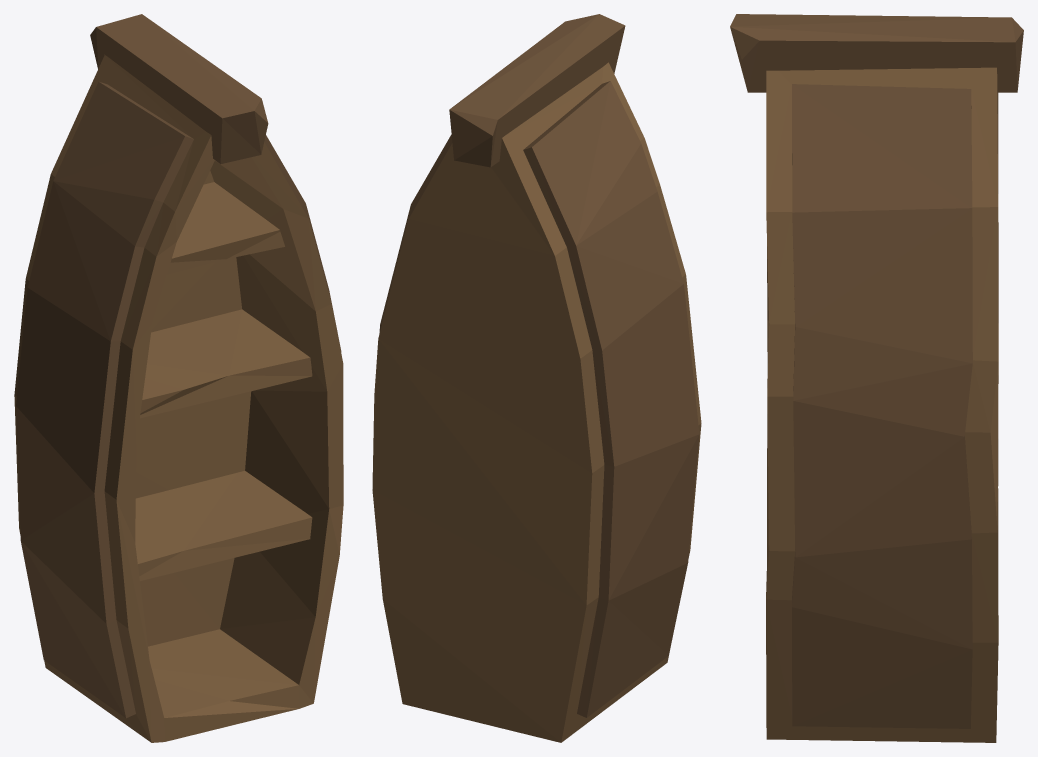
The model's file is Shelving_007.fbx.
3 renders of one model, left to right at view 1: azimuth 30°, elevation 25°; view 2: azimuth 150°, elevation 25°; view 3: azimuth 270°, elevation 25°, orthographic. The views are drawn at different scales.
Parts seen in each view (by area): view 1: Shelving_001; view 2: Shelving_001; view 3: Shelving_001.
Part boxes in pixels (<box>): Shelving_001: <box>14,14,343,742</box>; Shelving_001: <box>372,14,701,742</box>; Shelving_001: <box>730,14,1023,742</box>.
Size of the model in its own units: 112 by 271 by 107.
